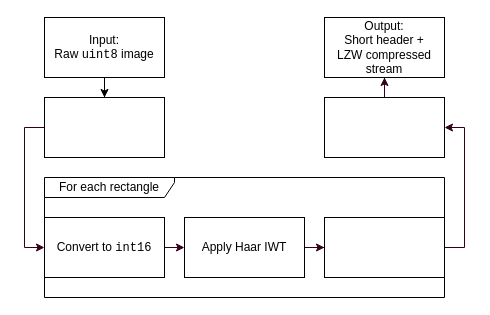
Image size: 490x315. Some labels were removed from this diagram. The box of each missing label's shape, as (x1, y1, x2, y2) in pixels:
Concatenate outputs for rectangles and compress with LZW: (324, 96, 444, 158)
Quantize and convert to int8: (324, 216, 444, 278)
Split image into regular rectangles: (44, 96, 164, 158)
